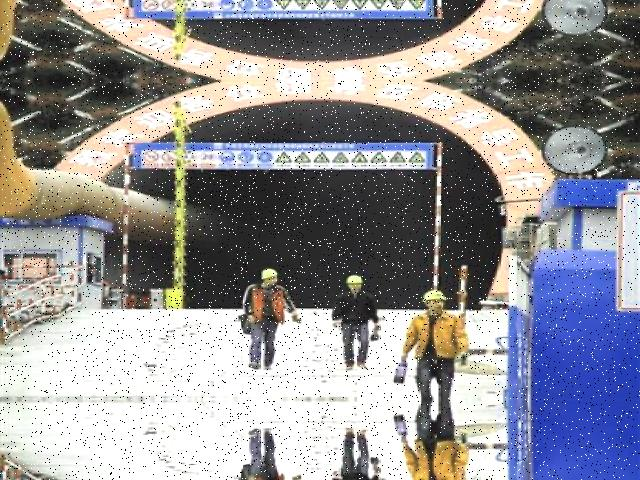Helmet: (418, 286, 446, 306), (253, 264, 280, 284), (340, 270, 364, 288)
